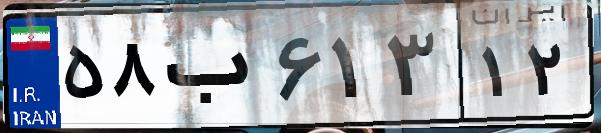1: (330, 28, 385, 110), (475, 38, 525, 113)
2: (525, 38, 570, 115)
3: (385, 28, 445, 110)
5: (57, 26, 110, 100)
6: (270, 28, 330, 110)
8: (110, 28, 158, 98)
ب: (158, 20, 270, 120)
